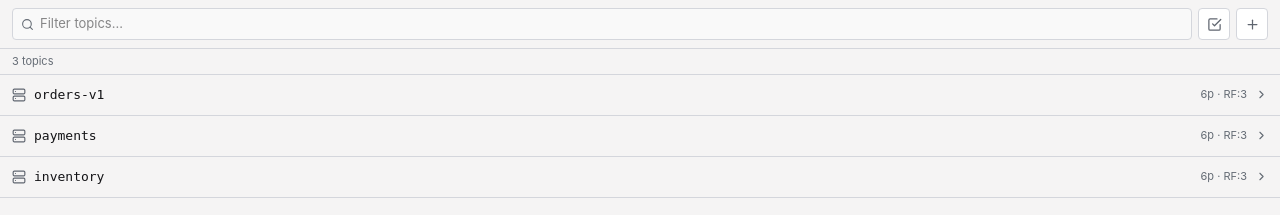
Scenario: [@topic-list] search and filter › shows 'No results for ...' when search matches nothing
Type "zzz-no-match" into the field labelled "Filter topics" at (612, 24), box [40,14,1183,34]
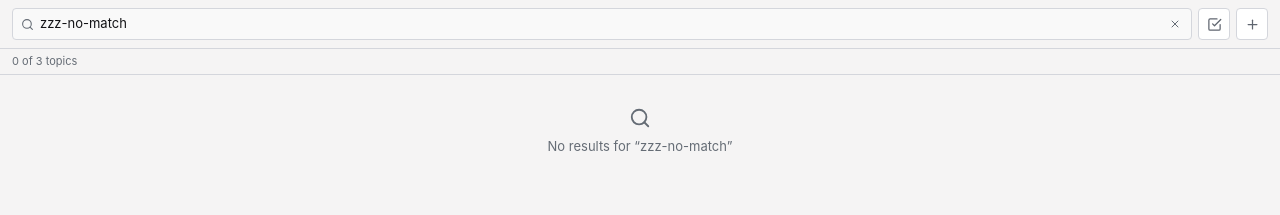
Expected: the text "No results for “zzz-no-match”" is shown, [548,136,732,156]
